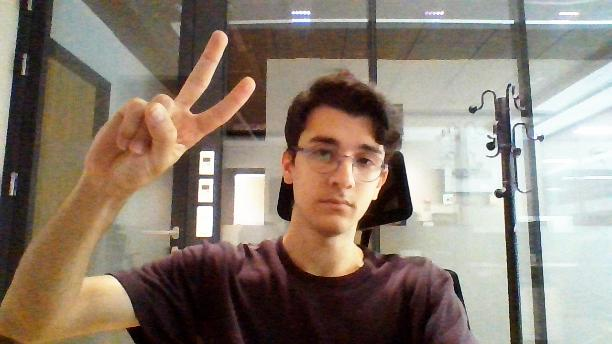Scissors: (78, 26, 258, 190)
